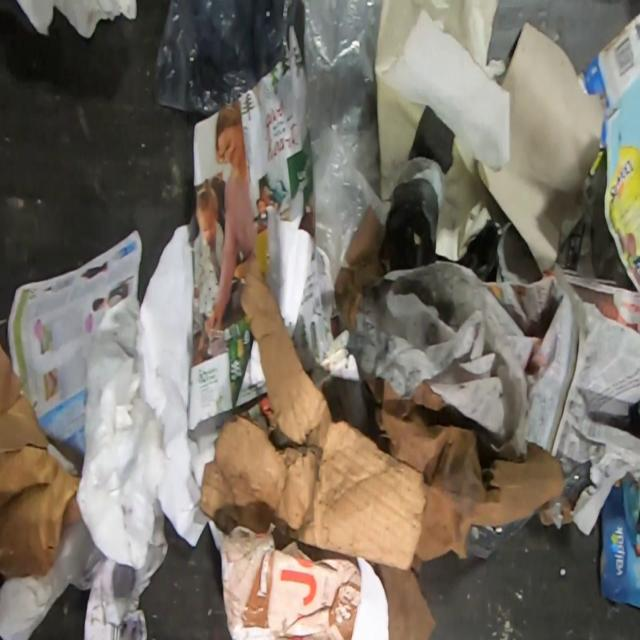cardboard: (196, 251, 427, 572), (576, 11, 640, 176), (599, 470, 640, 609)
soft_plastic: (298, 0, 384, 288), (151, 0, 299, 114), (464, 508, 536, 561), (562, 460, 593, 509)
